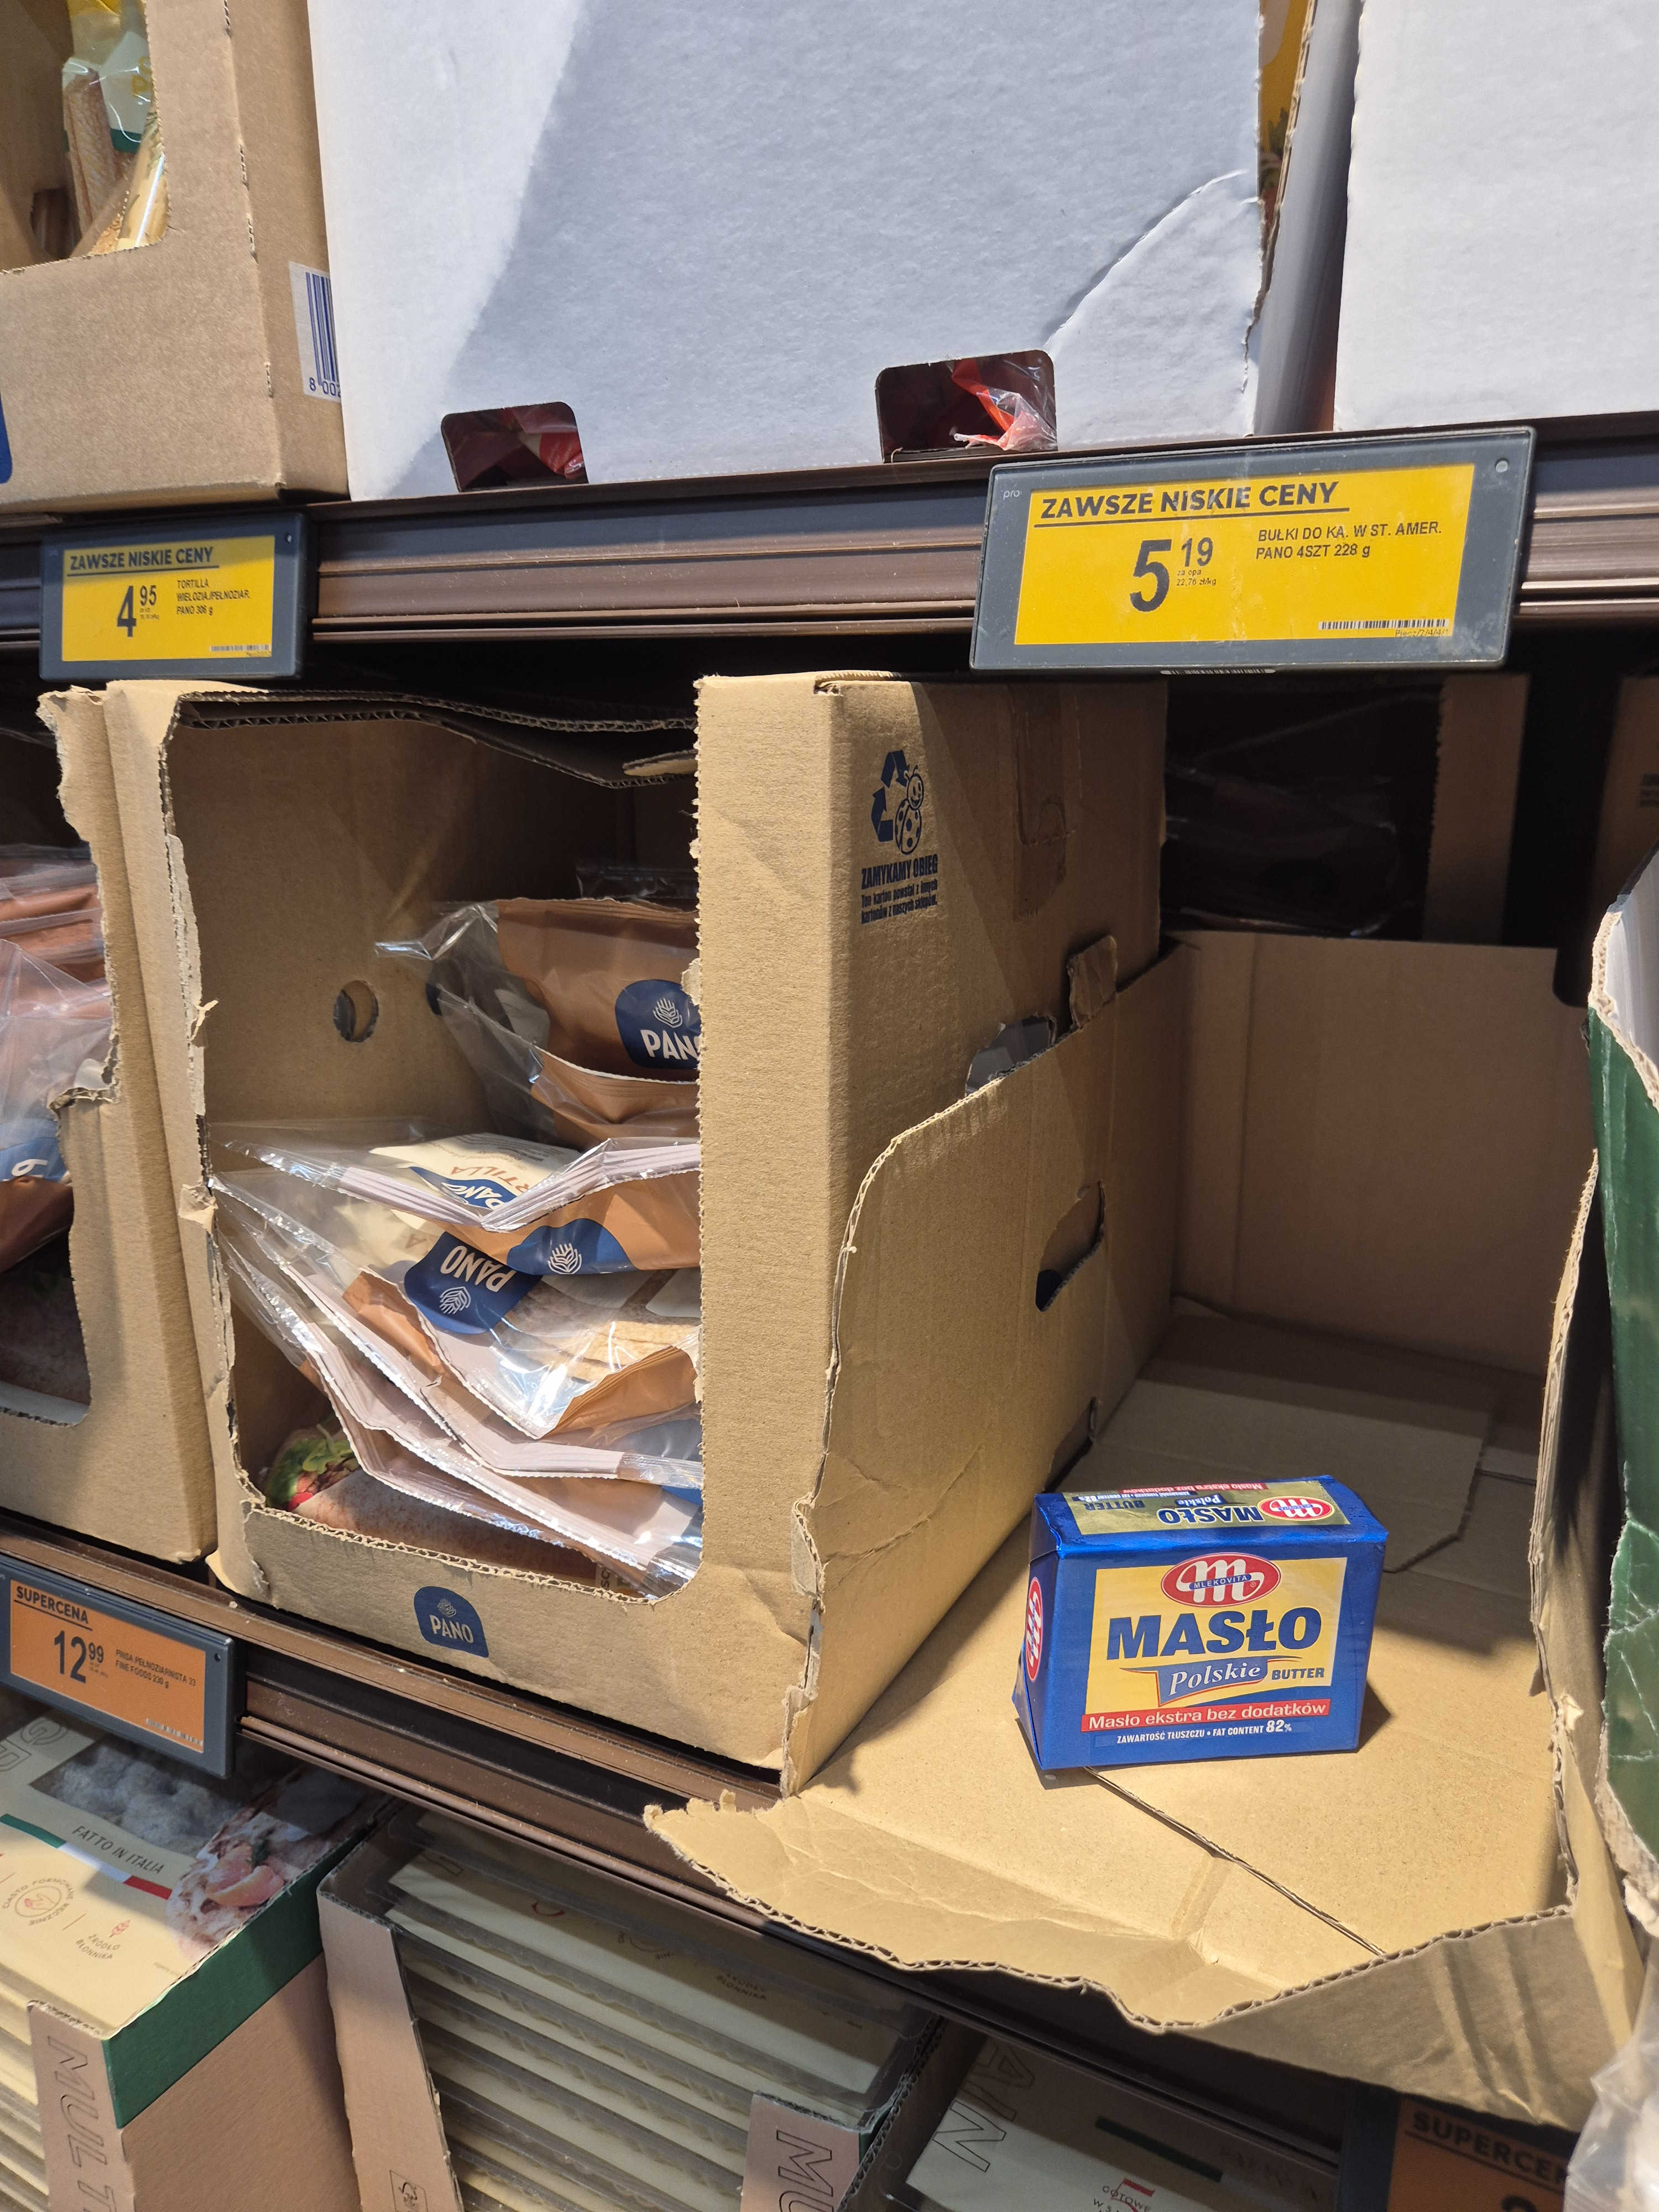Butter: (1018, 1456, 1384, 1794)
